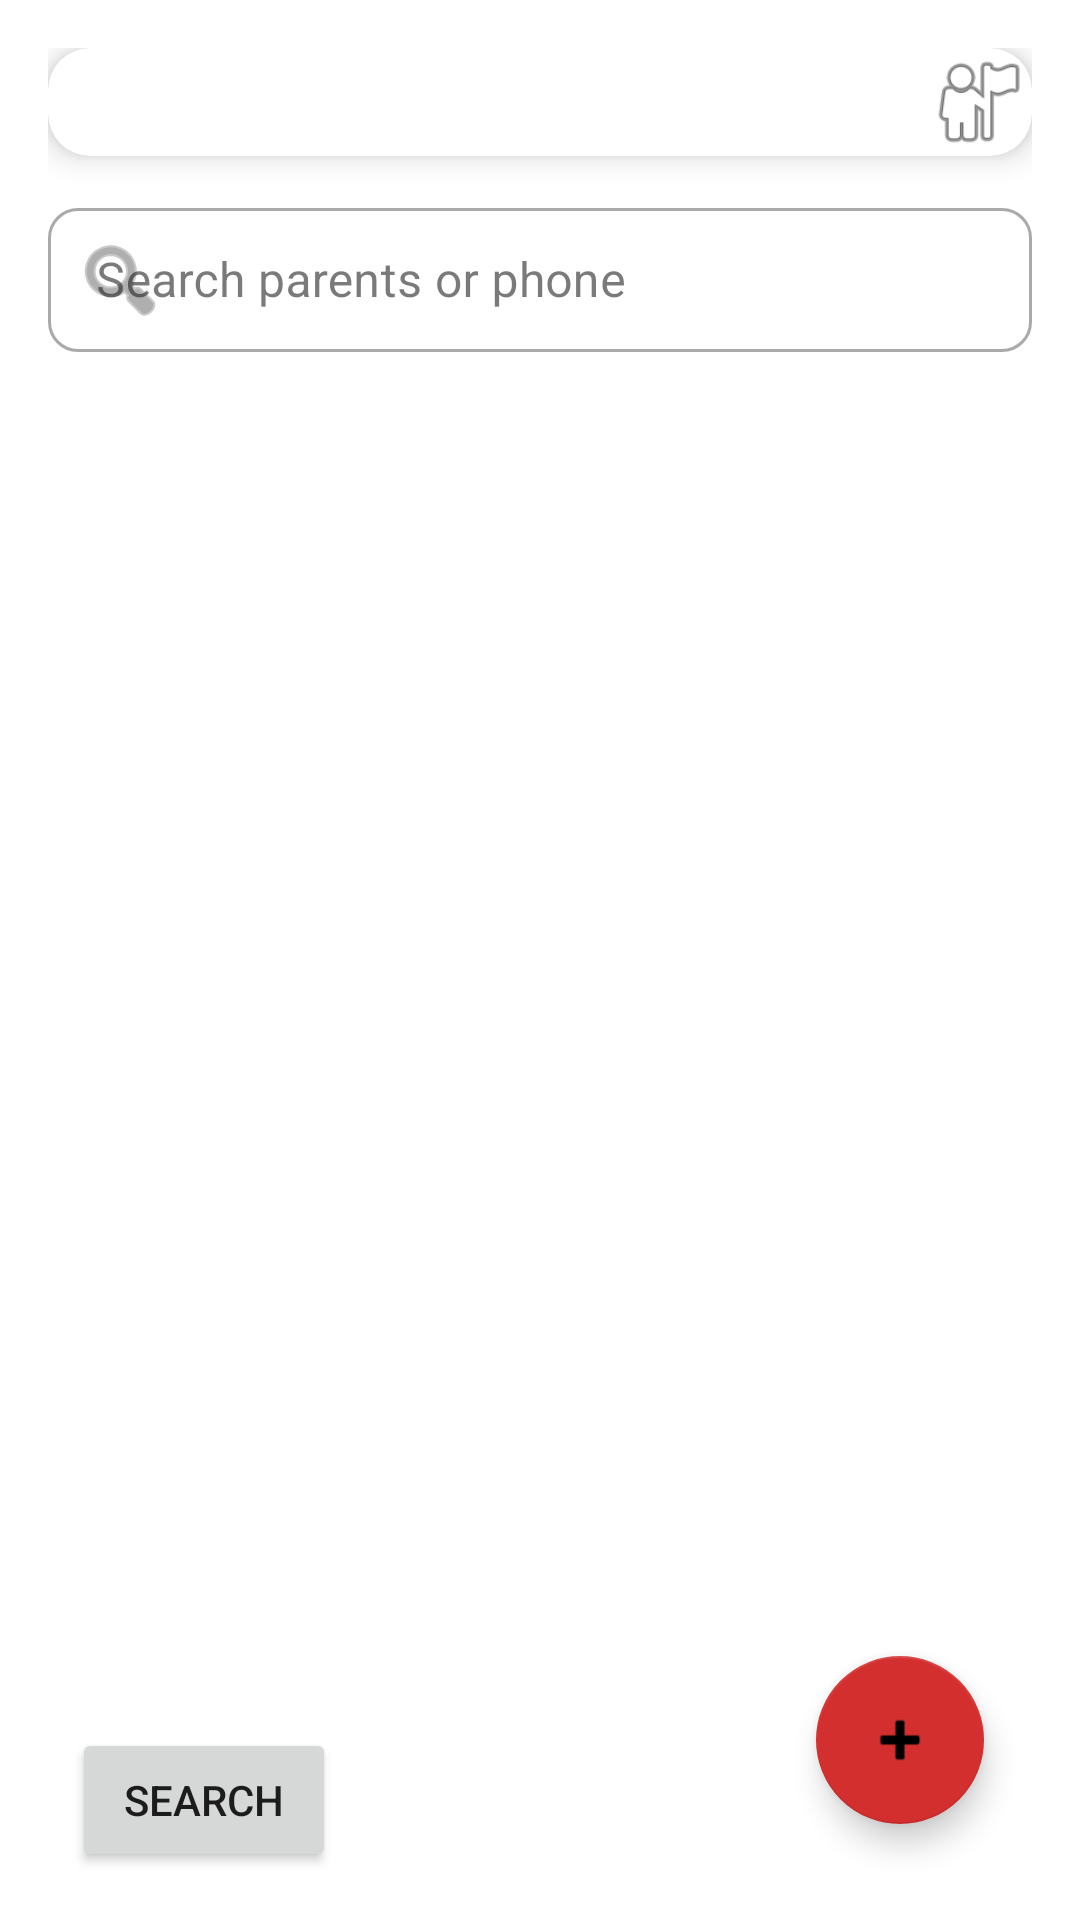

Screen size 1080px×1920px. Icon name, then its center in pixels as (x=x, y=y):
Add parent: (x=900, y=1740)
